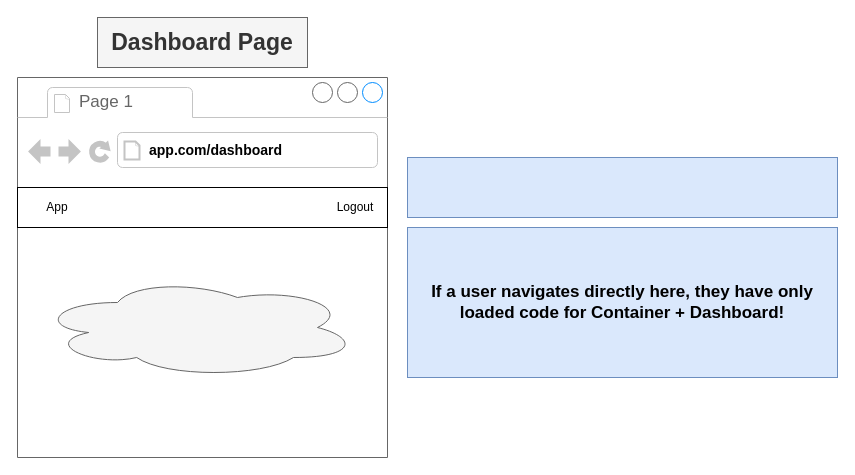
This 855x475 diagram has some shape labels left out. The shapes that lost their labels are listed below. From the top down, each one's centre as x and y in pixels, then its label:
(622,187): We probably want to restrict access to the dashboard app
(197,327): Pretty charts and tables
